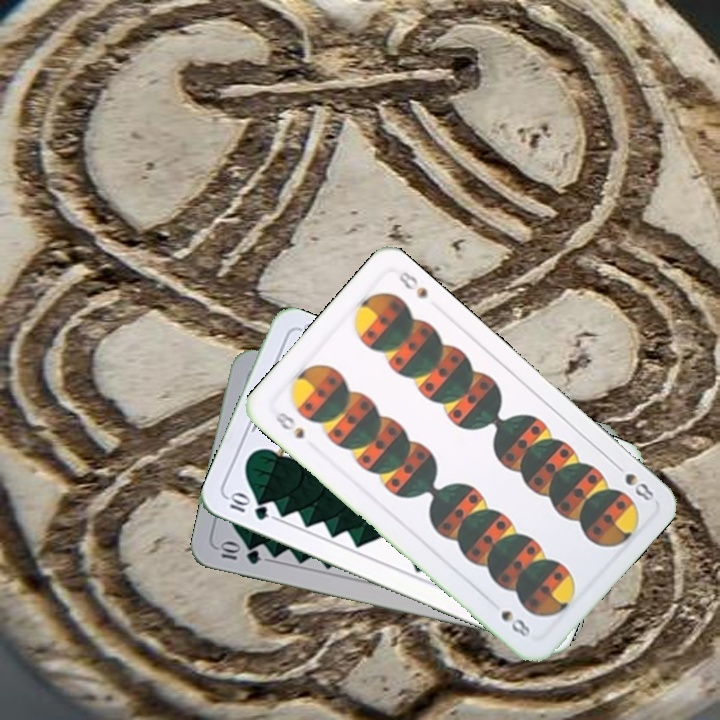G10: (223, 490, 271, 523), (214, 539, 263, 567)
S8: (608, 458, 657, 504), (270, 405, 307, 442)
